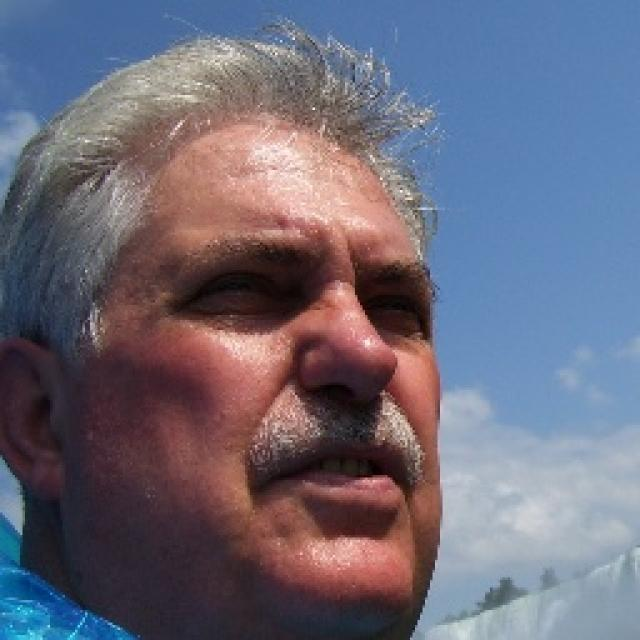earlobe: (0, 332, 62, 499)
